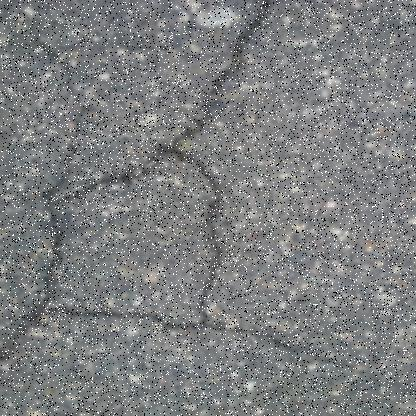Cracks: (0, 0, 338, 370)
